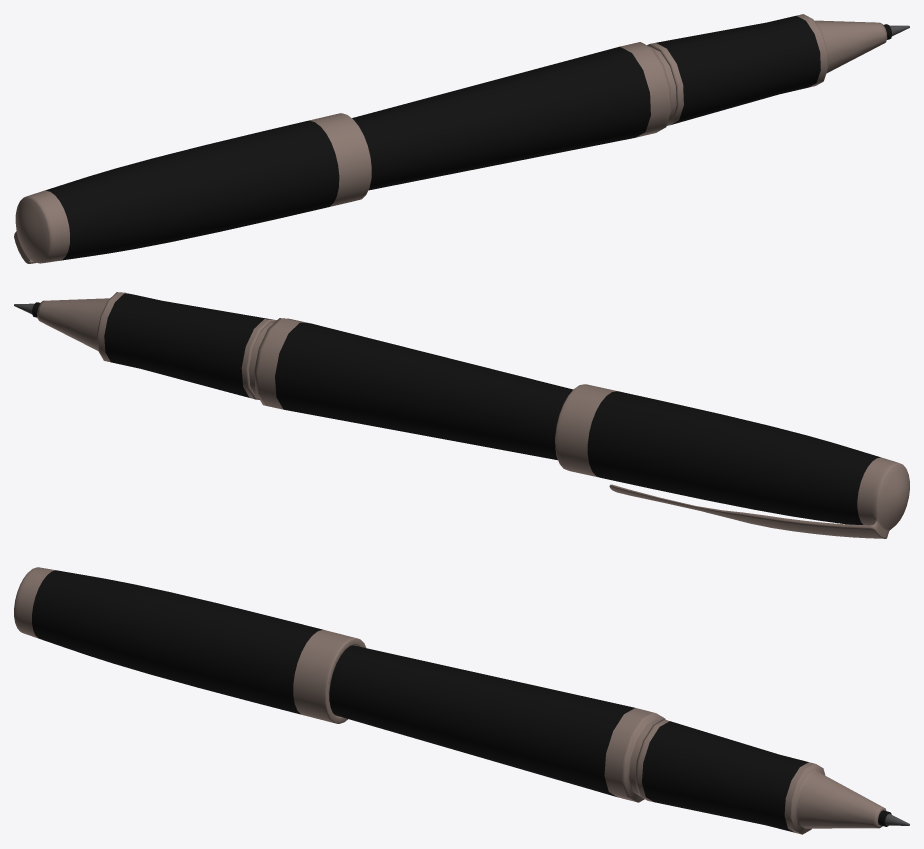
Rendered from pen.fbx.
The picture shows the model from 3 angles, top to bottom: view 1: azimuth 30°, elevation 25°; view 2: azimuth 150°, elevation 25°; view 3: azimuth 330°, elevation 25°; orthographic projection.
Visible parts, largest first — view 1: pen_black, pen_metal; view 2: pen_black, pen_metal; view 3: pen_black, pen_metal.
Part boxes in pixels (x1,y1,x2,y2): pen_black: (44, 15, 891, 260); pen_metal: (14, 14, 887, 263); pen_black: (32, 293, 880, 524); pen_metal: (37, 292, 909, 538); pen_black: (32, 570, 891, 832); pen_metal: (14, 567, 886, 834).
Bounding box in the file's own units: 10.83 × 1.04 × 1.01.
